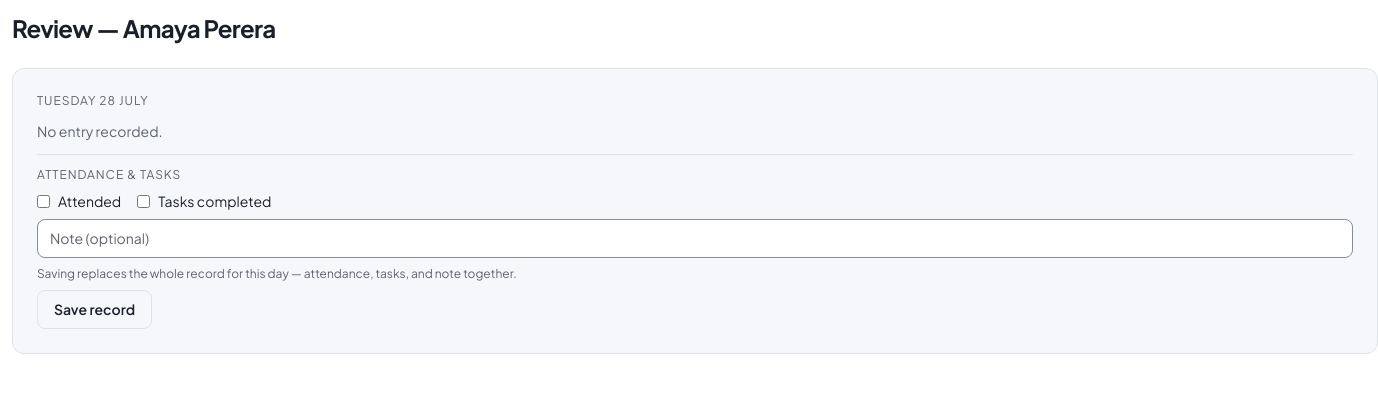
Test: StudentReviewPage › shows a success line after a save resolves without error
Expected: the text "Record saved." is not shown
Click the button "Save record" at (95, 310), box [37,290,152,329]
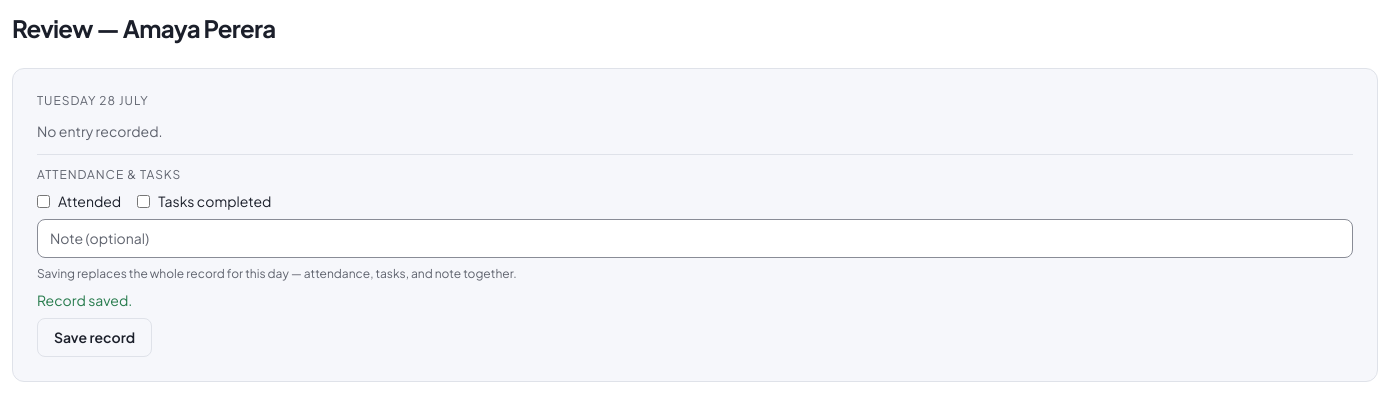
Now the text "Record saved." is shown, box [37,291,132,309]
